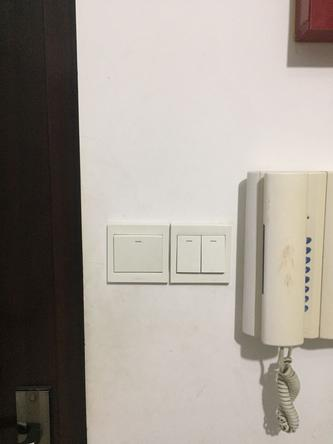switch: (110, 228, 168, 279), (174, 229, 205, 278), (198, 232, 229, 277)
